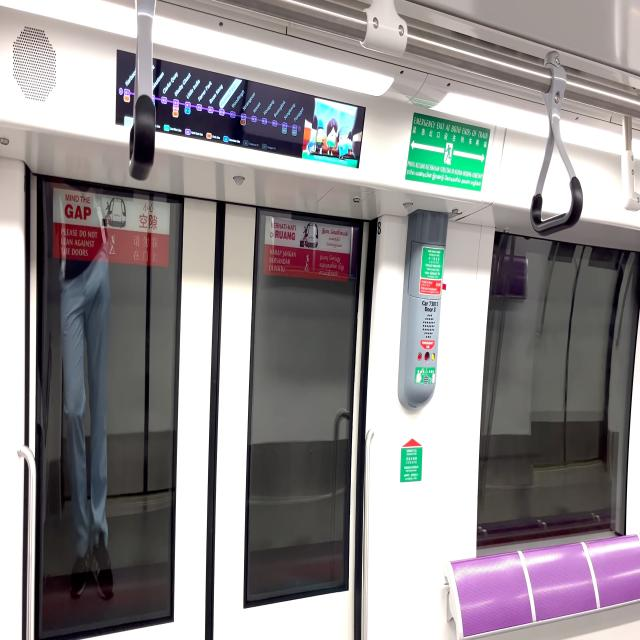bus-door: (29, 174, 376, 640)
